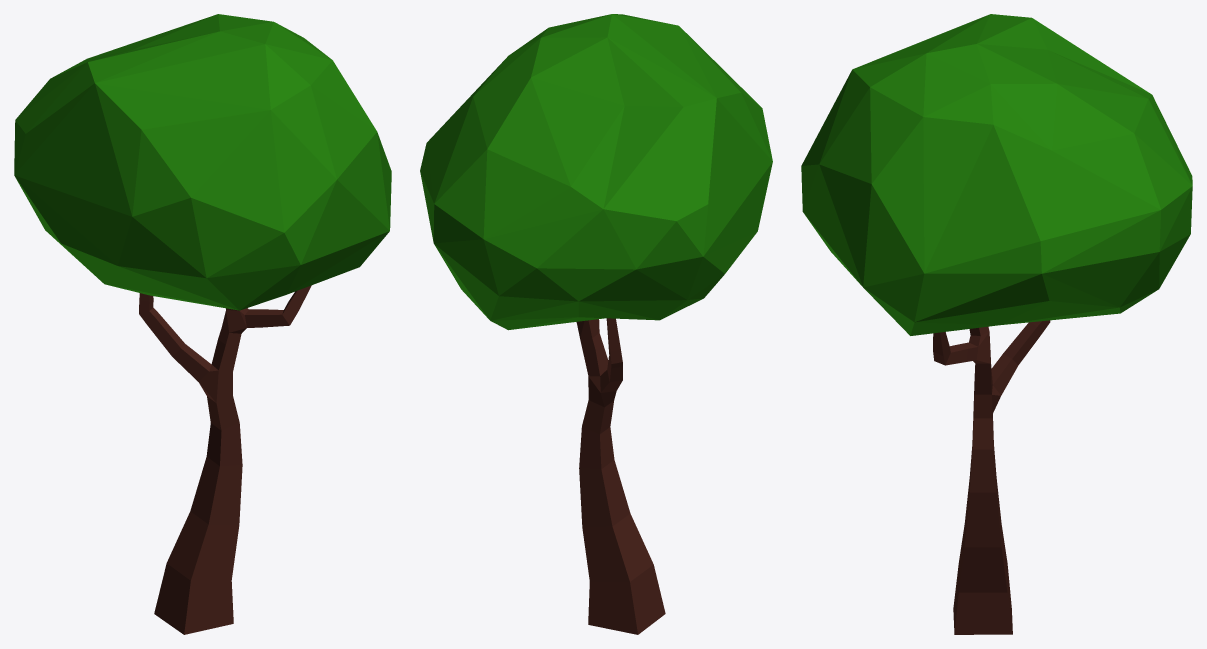
Rendered from tree_a.glb.
3 renders of one model, left to right at view 1: azimuth 30°, elevation 25°; view 2: azimuth 150°, elevation 25°; view 3: azimuth 270°, elevation 25°, orthographic. The views are drawn at different scales.
Visible parts, largest first — view 1: tree; view 2: tree; view 3: tree.
Boxes of the visible parts, x1,y1,x2,y2 form: tree: (14, 14, 391, 634); tree: (420, 14, 772, 634); tree: (801, 14, 1192, 634).
Size of the model in its own units: 1.13 by 2.03 by 1.22.
